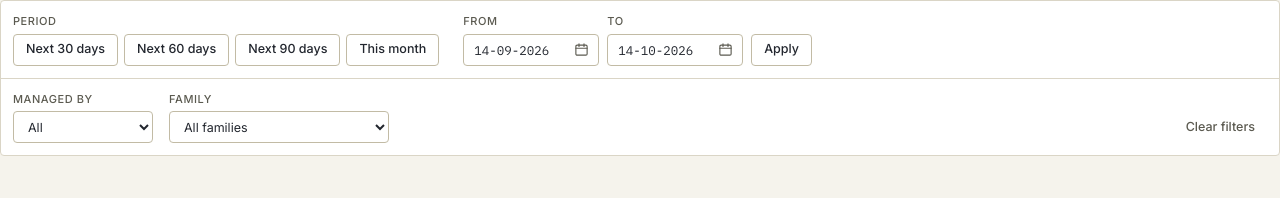
Test: custom range validation › asks for both ends of the range
Clear the field labelled "To" at (675,50), box [607,34,743,66]
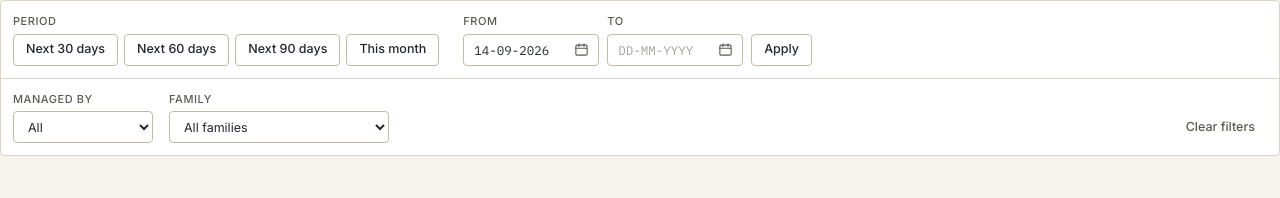
Click the button "Apply" at (782,50), box [751,34,812,66]
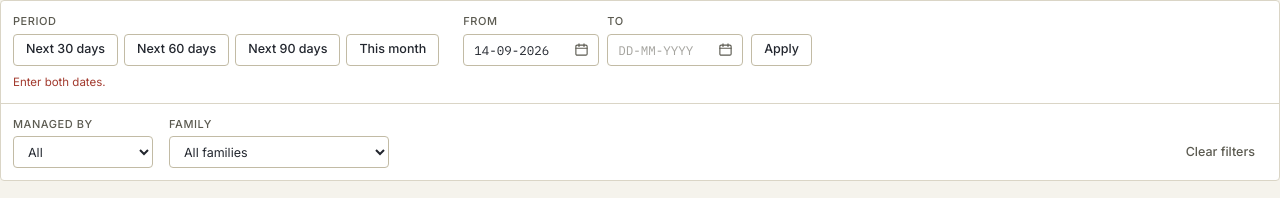
Now the message reads "Enter both dates.", box [13,74,106,88]
